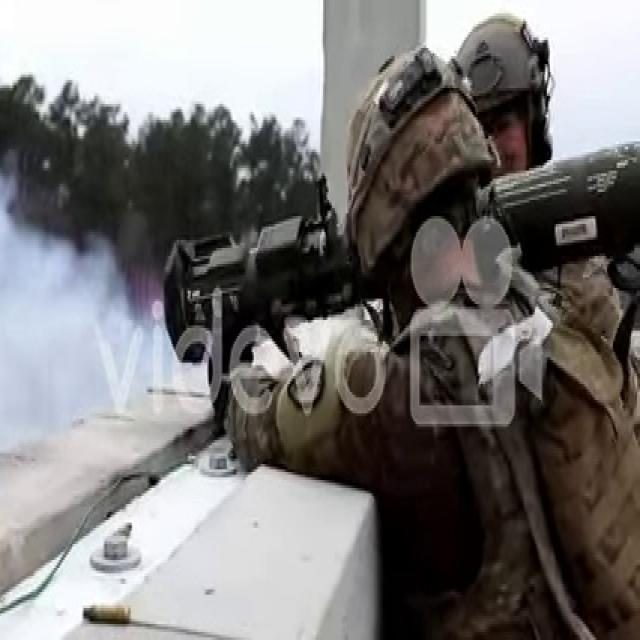bazooka: (153, 135, 640, 382)
